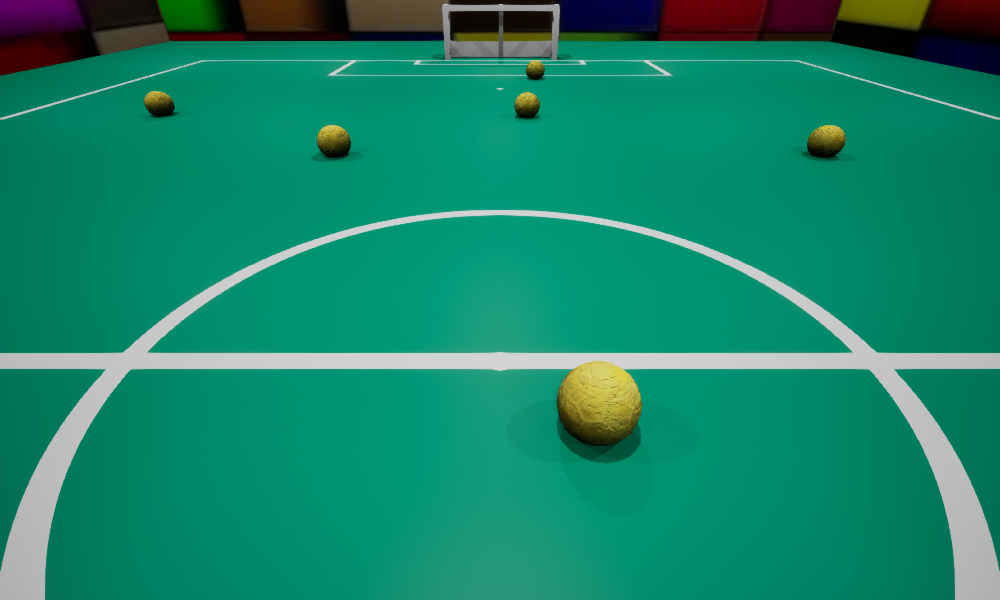b: (557, 361, 641, 445), (807, 125, 845, 156), (317, 125, 350, 156), (144, 91, 174, 115), (514, 92, 539, 117), (526, 60, 544, 78)
g: (442, 4, 559, 59)
